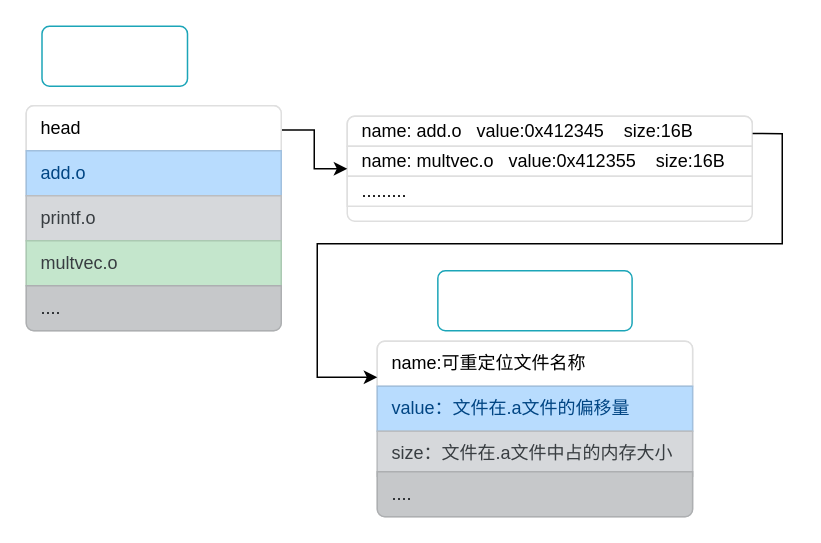
This 821x543 diagram has some shape labels left out. The shapes that lost their labels are listed below. From the top down, each one's box as (x1, y1, x2, y2) in pixels, then its label:
(40, 25, 188, 86): lib.a文件格式
(436, 269, 632, 331): head item格式
